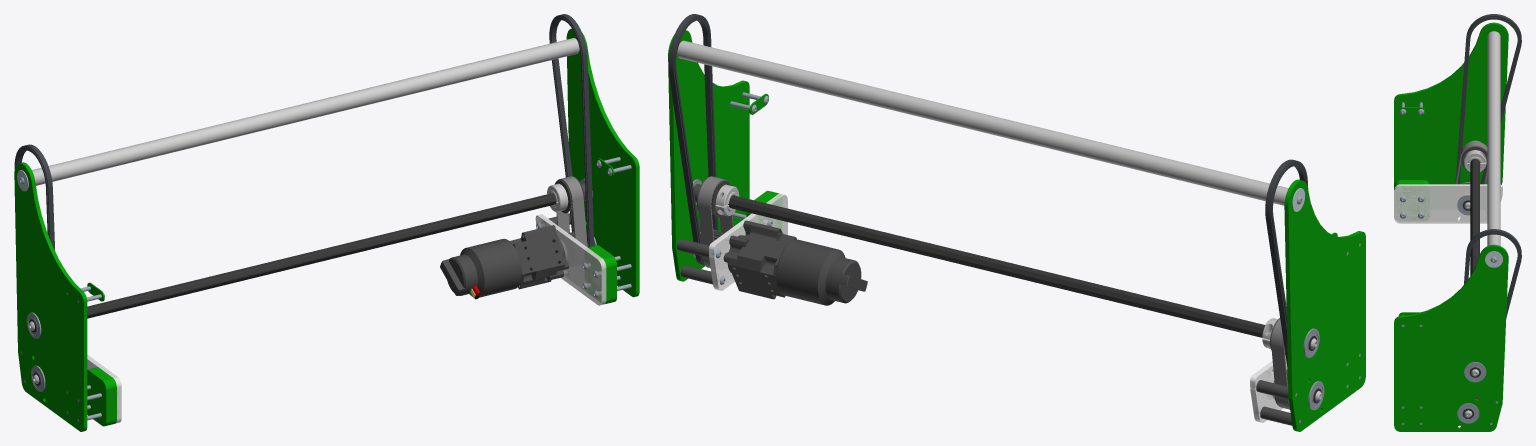
The picture shows the model from 3 angles, left to right: view 1: azimuth 30°, elevation 25°; view 2: azimuth 150°, elevation 25°; view 3: azimuth 270°, elevation 25°; orthographic projection. The views are drawn at different scales.
Visible parts, largest first — view 1: Mount Plate (×2), Dead Axle Tube - 29.375in (REV-21-2510), Shaft, Chain Sweep, ~102 links (×2), Simplified Falcon500 V1/V2, motor plate offset (×2), motor plate, 50T HTD Belt, Simplified MP 1/2" Output, Motor Section, MP Slice; view 2: Mount Plate (×2), Dead Axle Tube - 29.375in (REV-21-2510), Shaft, Chain Sweep, ~102 links (×2), Simplified Falcon500 V1/V2, motor plate (×2), 50T HTD Belt (×2), MP Slice (×2), Motor Section, Simplified MP 1/2" Output; view 3: Mount Plate (×2), motor plate, Dead Axle Tube - 29.375in (REV-21-2510), Chain Sweep, ~102 links (×2), Shaft, .5" Hex ID 1.125" OD Flanged Bearing (217-2734) (×3), am-1238a 500Hex Collar Clamp Body, 50T HTD Belt, motor plate offset, 90313A104_18-8 Stainless Steel Oversized Washer, Bolt shim, 24T HTD Pulley.
Boxes of the visible parts, x1,y1,x2,y2 form: Mount Plate (×2): (14,28,639,431); Dead Axle Tube - 29.375in (REV-21-2510): (32,38,579,185); Shaft: (28,193,557,332); Chain Sweep, ~102 links (×2): (14,14,594,250); Simplified Falcon500 V1/V2: (440,238,521,299); motor plate offset (×2): (87,245,616,426); motor plate: (535,214,606,305); 50T HTD Belt: (556,176,587,247); Simplified MP 1/2" Output: (542,225,569,283); Motor Section: (510,232,536,289); MP Slice: (523,229,545,288); Mount Plate (×2): (668,30,1365,431); Dead Axle Tube - 29.375in (REV-21-2510): (677,40,1288,205); Shaft: (728,195,1317,350); Chain Sweep, ~102 links (×2): (668,14,1308,370); Simplified Falcon500 V1/V2: (776,239,867,305); motor plate (×2): (709,193,1287,422); 50T HTD Belt (×2): (698,176,1289,409); MP Slice (×2): (739,223,777,298); Motor Section: (760,228,796,299); Simplified MP 1/2" Output: (723,220,755,293); Mount Plate (×2): (1394,22,1508,431); motor plate: (1394,184,1502,223); Dead Axle Tube - 29.375in (REV-21-2510): (1487,31,1500,245); Chain Sweep, ~102 links (×2): (1455,14,1521,317); Shaft: (1469,159,1480,377); .5" Hex ID 1.125" OD Flanged Bearing (217-2734) (×3): (1457,195,1486,423); am-1238a 500Hex Collar Clamp Body: (1464,150,1486,171); 50T HTD Belt: (1455,141,1487,184); motor plate offset: (1394,180,1429,219); 90313A104_18-8 Stainless Steel Oversized Washer: (1485,251,1502,267); Bolt shim: (1398,107,1425,115); 24T HTD Pulley: (1461,147,1487,169).
Size of the model in its own units: 0.7582 by 0.317 by 0.1802.
